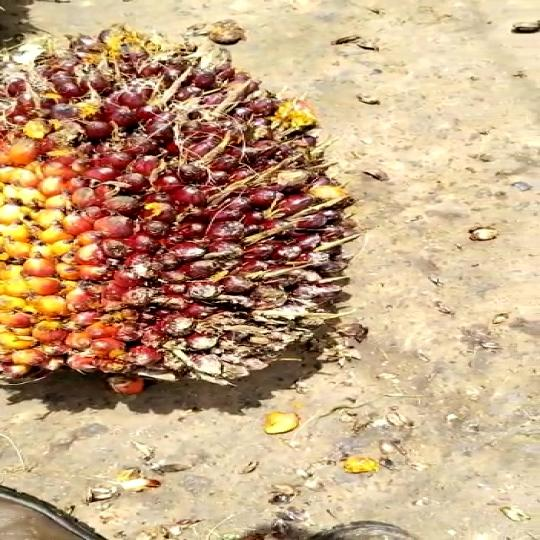kurang masak: (0, 28, 355, 404)
